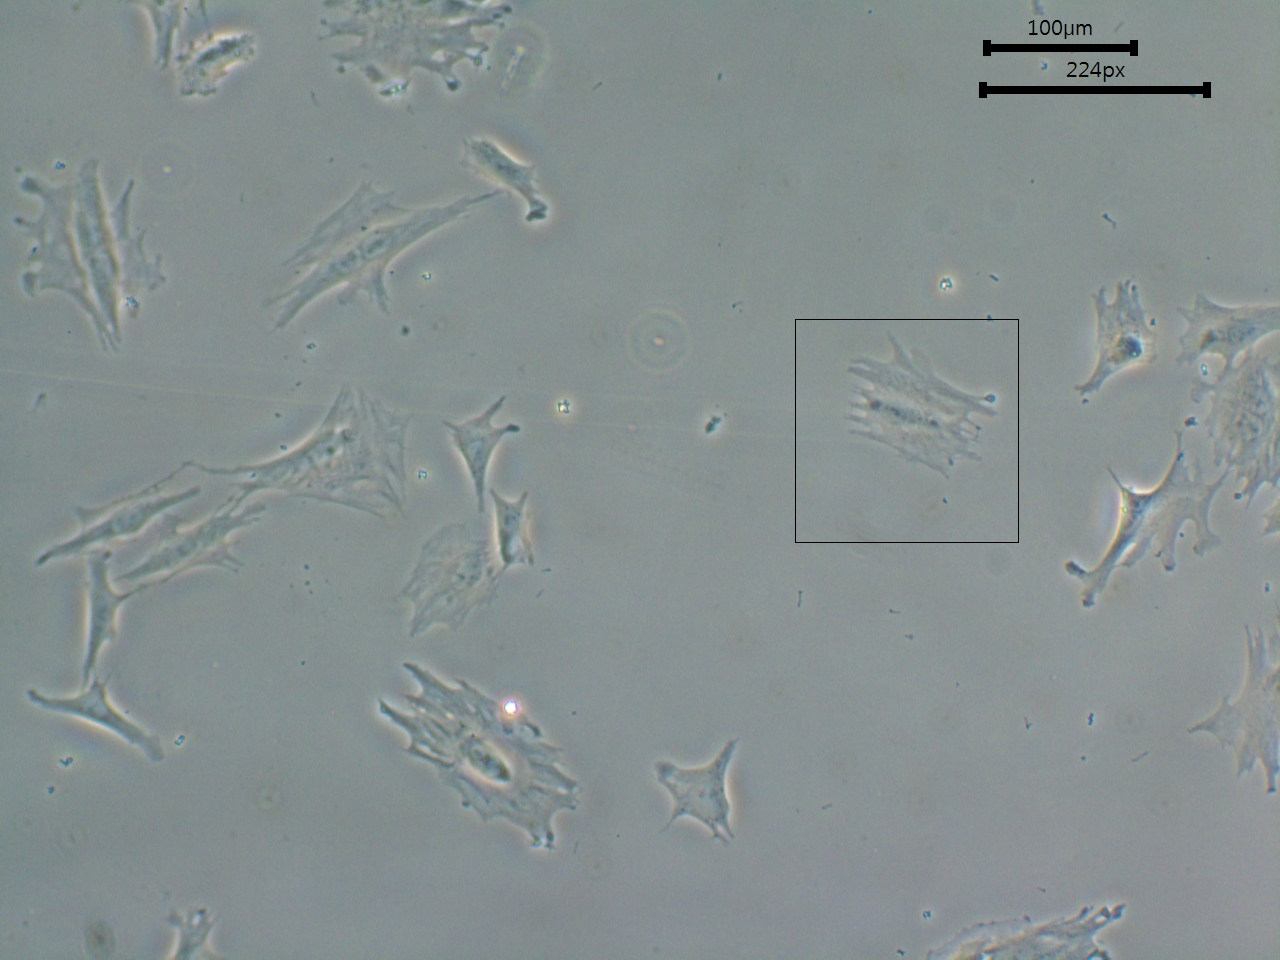dividing: (246, 166, 526, 336), (1055, 429, 1237, 615), (394, 521, 497, 638)
medium-polygonal: (40, 485, 208, 571), (20, 682, 174, 765), (127, 509, 273, 592), (76, 549, 135, 682)
medium-spread: (347, 650, 602, 858), (10, 155, 179, 363), (215, 367, 431, 524)
small-polygonal: (642, 718, 768, 863), (1074, 270, 1162, 411), (441, 392, 526, 515), (450, 131, 560, 225), (487, 488, 555, 573)
